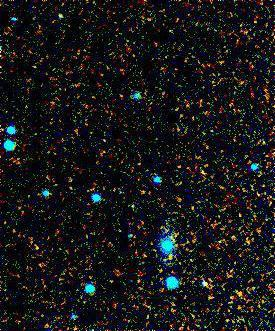star: (154, 242, 184, 272)
